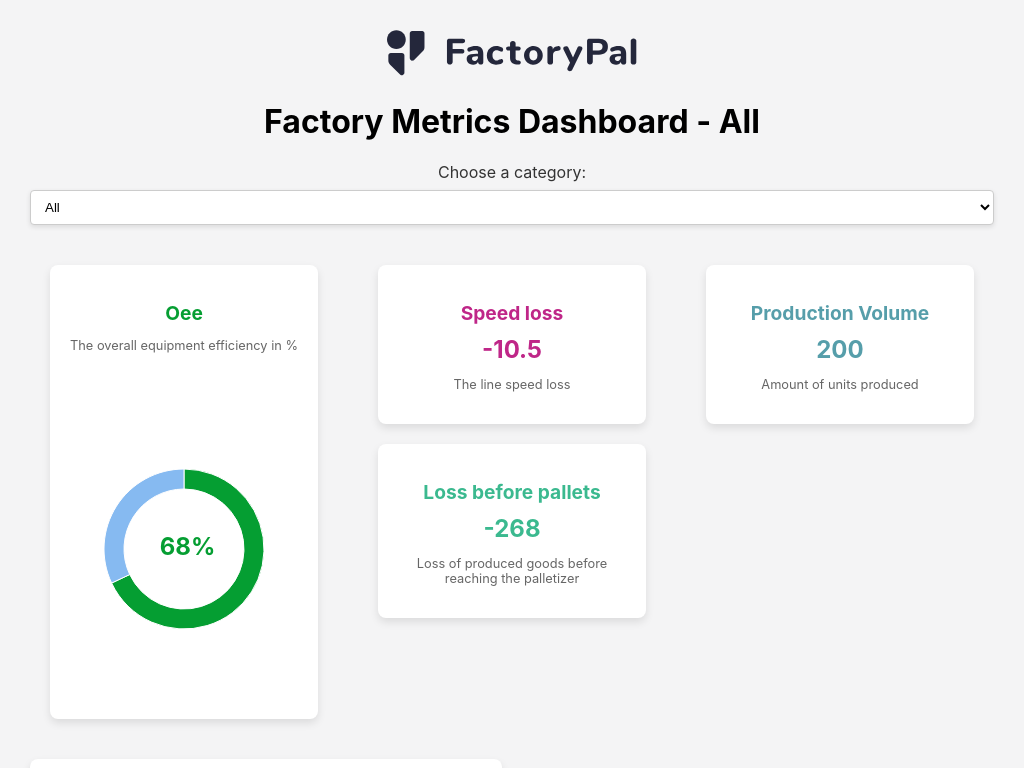
Scenario: Factory Metrics Dashboard Tests › navigates between categories using the selector
This screenshot has width=1024, height=768.
Select "Efficiency" in the dropdown. click: (512, 208)
box: left=30, top=190, right=994, bottom=225
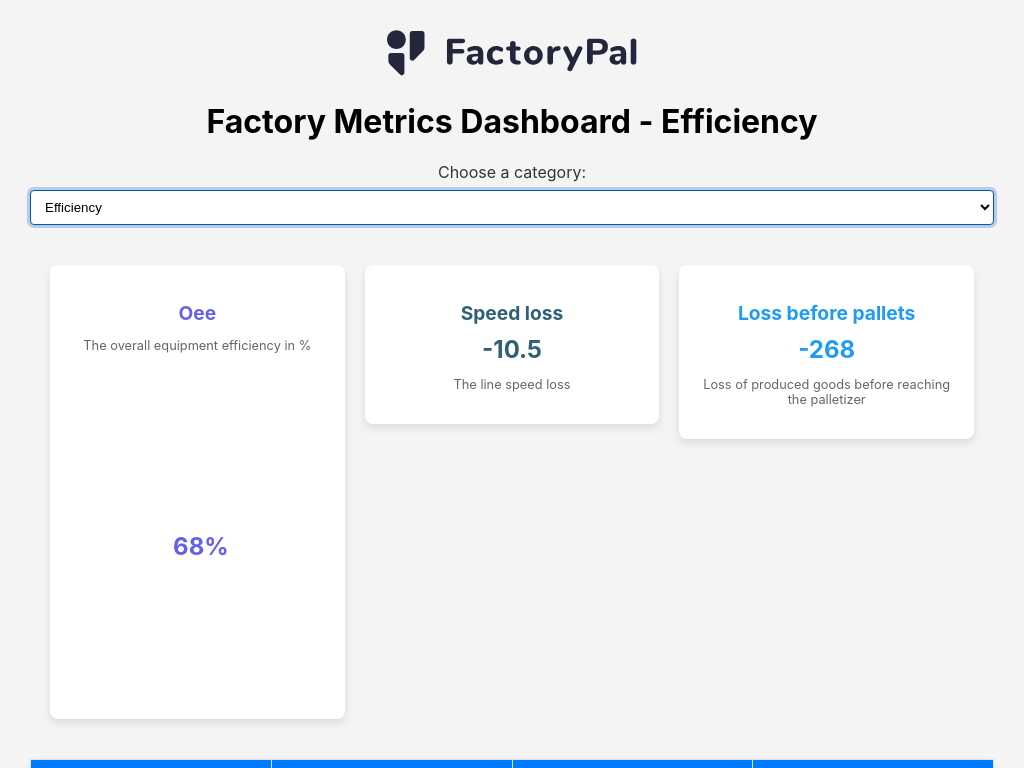
Expected: the heading "Factory Metrics Dashboard - Efficiency" is shown, left=206, top=102, right=818, bottom=141
